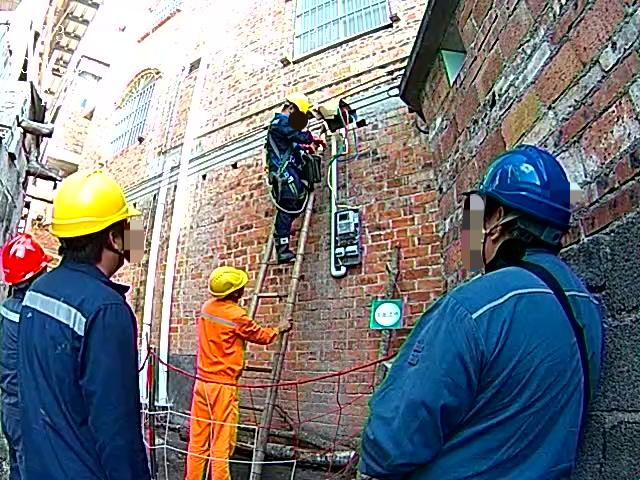halt: (462, 145, 576, 250), (53, 175, 140, 272), (3, 236, 63, 290), (210, 268, 252, 305), (285, 98, 312, 126)
inear: (106, 223, 132, 266)
outear: (481, 203, 522, 249)
